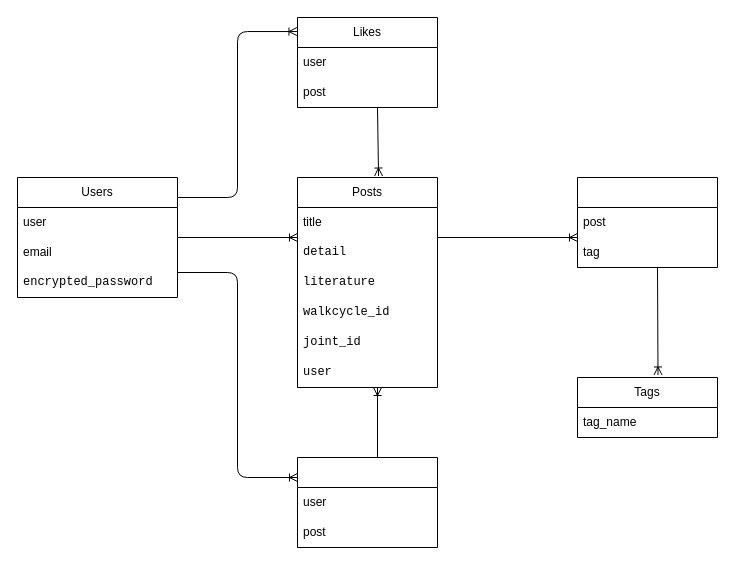
Some shapes in this 735 by 565 pixel diagram are drawn without their labels. Each missing label, with the box of its shape:
Comment: (296, 456, 438, 548)
Post_tag_relations: (576, 176, 718, 268)
